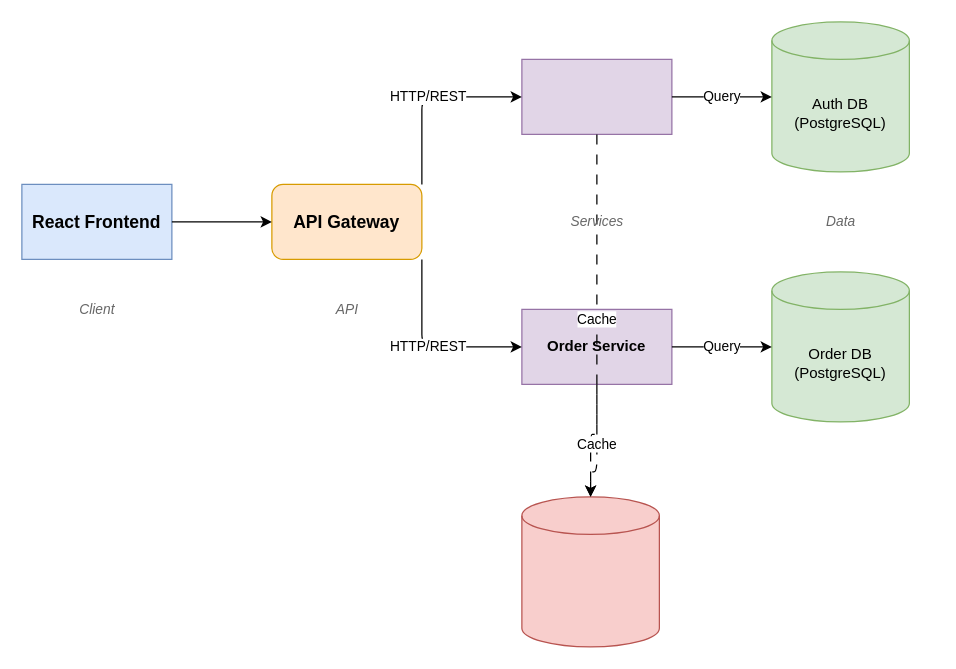
Some shapes in this 956 by 669 pixel diagram are drawn without their labels. Each missing label, with the box of its shape:
Auth Service: (521, 58, 672, 134)
Redis Cache (Shared): (521, 496, 659, 647)
